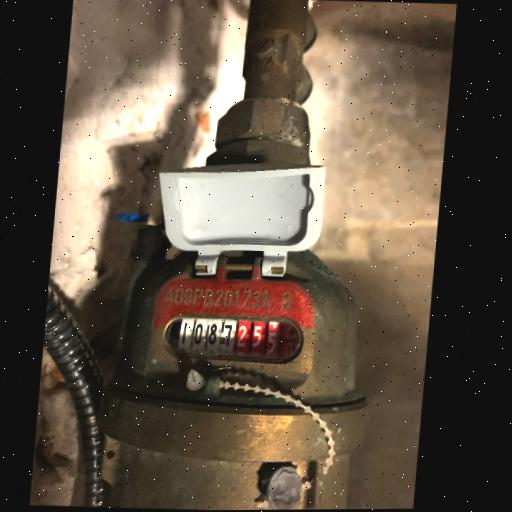0: (281, 322, 301, 360), (190, 317, 207, 352)
1: (177, 317, 194, 350)
2: (233, 320, 250, 355)
5: (263, 320, 282, 358), (248, 319, 265, 356)
7: (218, 319, 235, 355)
8: (204, 318, 221, 353)
border_water_meter_number: (159, 311, 306, 366)
